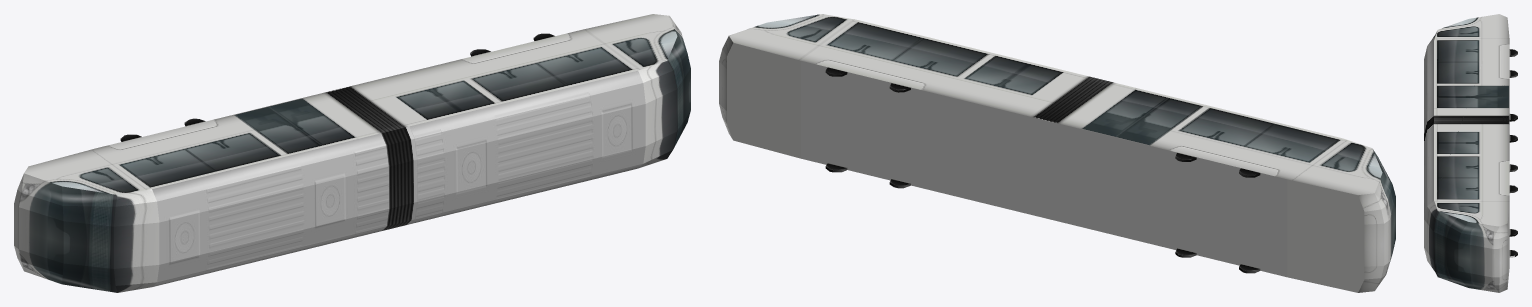
Rendered from tram-low-poly-1.glb.
The picture shows the model from 3 angles, left to right: view 1: azimuth 30°, elevation 25°; view 2: azimuth 150°, elevation 25°; view 3: azimuth 270°, elevation 25°; orthographic projection. The views are drawn at different scales.
Visible parts, largest first — view 1: Plane; view 2: Plane; view 3: Plane.
Boxes of the visible parts, left/top/right/bottom form: Plane: left=14, top=14, right=690, bottom=292; Plane: left=719, top=14, right=1395, bottom=292; Plane: left=1424, top=14, right=1517, bottom=292.
Size of the model in its own units: 0.9988 by 0.1405 by 0.1806.
1 material, 1 textured.
